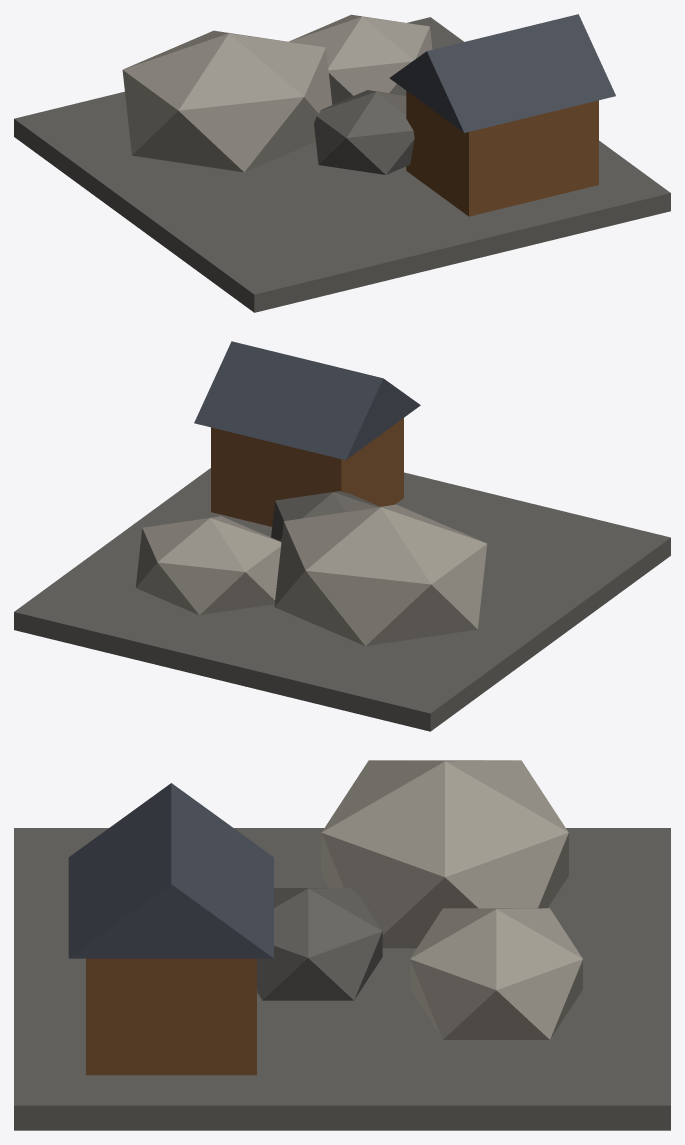
The model's file is quarry.glb.
3 views of the same model, one above another, from view 1: azimuth 30°, elevation 25°; view 2: azimuth 150°, elevation 25°; view 3: azimuth 270°, elevation 25° (orthographic). The views are drawn at different scales.
Parts seen in each view (by area): view 1: quarry; view 2: quarry; view 3: quarry.
Part boxes in pixels (x1,y1,x2,y2): quarry: (14, 14, 670, 312); quarry: (14, 341, 670, 731); quarry: (14, 760, 670, 1130).
Size of the model in its own units: 1.92 by 0.74 by 1.92.
